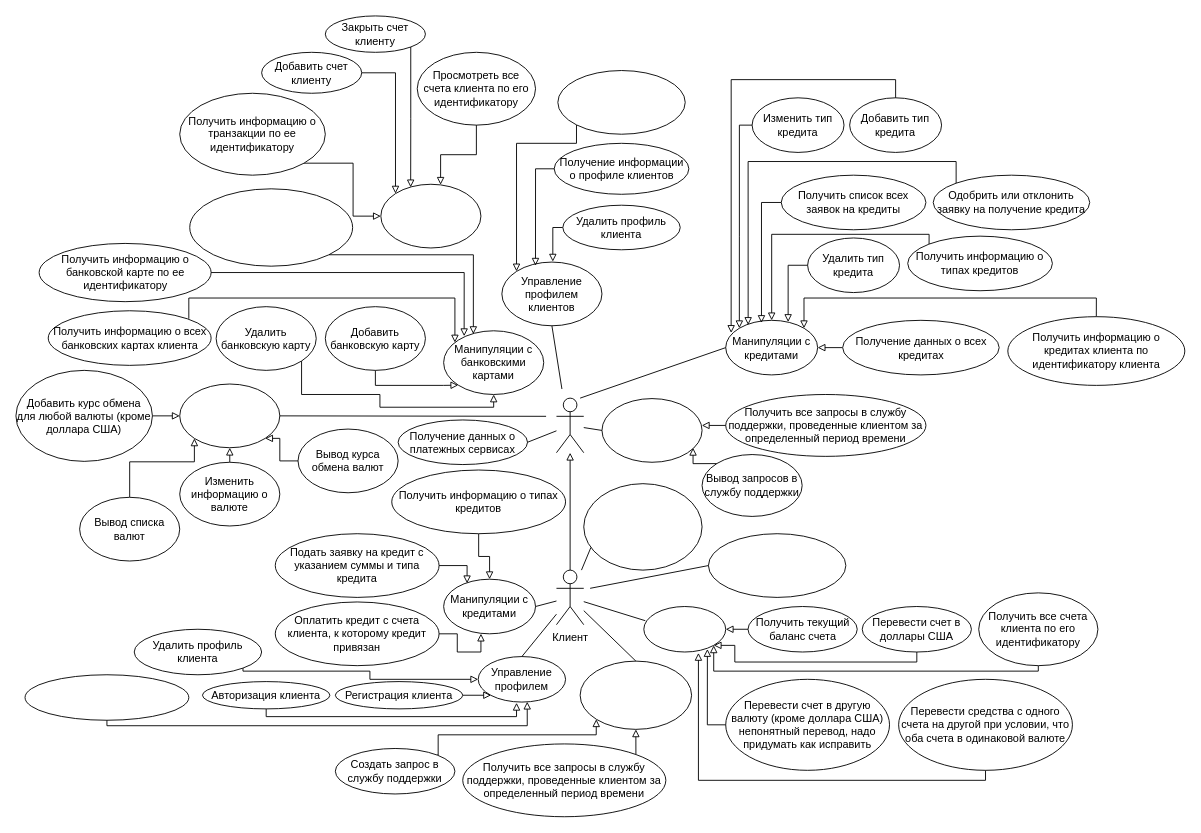
Image size: 1201x833. Some labels were removed from this diagram. The shapes that lost their labels are listed below. From the top down, each one's box as (x1, y1, x2, y2) in pixels, then its label:
(557, 70, 685, 134): Получить список всех клиентов и информацию о них
(189, 188, 353, 266): Изменить статус банковской карты по ее идентификатору (заблокирована/доступна)
(380, 183, 481, 248): Манипуляции со счетами
(179, 383, 280, 448): Манипуляции с валютами
(556, 397, 584, 453): Администратор
(601, 398, 702, 462): Манипуляции со службой поддержки
(583, 483, 702, 570): Получить историю всех транзакций клиента за указанный период времени
(708, 533, 846, 597): Получить информацию о курсе обмена валют
(643, 606, 726, 652): Управление счетом
(24, 674, 189, 720): Получить информацию о профиле клиента
(579, 660, 692, 729): Манипуляции с запросами в службу поддержки
